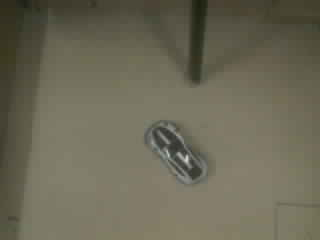Car: (146, 121, 206, 184)
